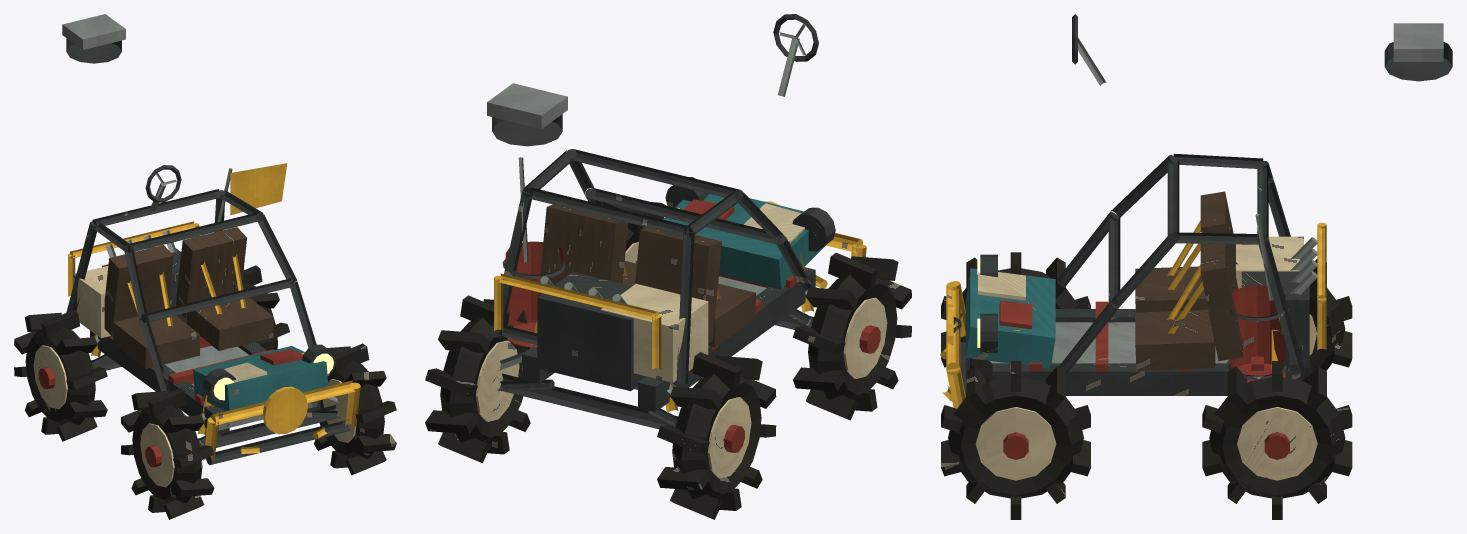
Rendered from vehicle_scout_buggy_a_quality_v2_lod1.glb.
3 views of the same model, side by side, from view 1: azimuth 30°, elevation 25°; view 2: azimuth 150°, elevation 25°; view 3: azimuth 270°, elevation 25° (orthographic). The views are drawn at different scales.
Parts seen in each view (by area): view 1: wheel_rear_left, wheel_front_left, passenger_seat_back, sloped_nose, driver_seat_back, wheel_front_right, passenger_seat_cushion, driver_seat_cushion, wheel_rear_left_tire, wheel_front_left_tire, left_chassis_rail, wheel_front_right_tire (+29 smaller); view 2: rear_engine_block, wheel_front_left, wheel_rear_left, passenger_seat_back, wheel_rear_right, rear_luggage_crate, driver_seat_back, sloped_nose, wheel_front_left_tire, wheel_rear_left_tire, left_chassis_rail, wheel_rear_right_tire (+23 smaller); view 3: wheel_rear_right_tire, wheel_front_right_tire, right_chassis_rail, sloped_nose, wheel_front_right, wheel_rear_right, passenger_seat_cushion, wheel_front_right_rim, wheel_rear_right_rim, passenger_seat_back, rear_fuel_drum, belly_skid (+30 smaller).
Part boxes in pixels (bbox=[...]): wheel_rear_left: bbox=[14, 310, 107, 441]; wheel_front_left: bbox=[121, 388, 214, 519]; passenger_seat_back: bbox=[176, 227, 246, 318]; sloped_nose: bbox=[193, 346, 328, 410]; driver_seat_back: bbox=[104, 245, 173, 336]; wheel_front_right: bbox=[314, 343, 396, 475]; passenger_seat_cushion: bbox=[186, 297, 273, 350]; driver_seat_cushion: bbox=[113, 315, 200, 368]; wheel_rear_left_tire: bbox=[25, 327, 95, 425]; wheel_front_left_tire: bbox=[132, 405, 202, 503]; left_chassis_rail: bbox=[90, 330, 229, 434]; wheel_front_right_tire: bbox=[319, 360, 384, 459]; rear_engine_block: bbox=[537, 272, 645, 391]; wheel_front_left: bbox=[793, 252, 911, 420]; wheel_rear_left: bbox=[657, 352, 776, 519]; passenger_seat_back: bbox=[538, 204, 628, 296]; wheel_rear_right: bbox=[425, 295, 530, 463]; rear_luggage_crate: bbox=[600, 283, 708, 382]; driver_seat_back: bbox=[635, 227, 721, 342]; sloped_nose: bbox=[663, 194, 825, 289]; wheel_front_left_tire: bbox=[808, 274, 897, 399]; wheel_rear_left_tire: bbox=[672, 374, 761, 499]; left_chassis_rail: bbox=[638, 267, 815, 411]; wheel_rear_right_tire: bbox=[440, 317, 528, 442]; wheel_rear_right_tire: bbox=[1209, 377, 1345, 498]; wheel_front_right_tire: bbox=[948, 377, 1083, 498]; right_chassis_rail: bbox=[992, 363, 1300, 395]; sloped_nose: bbox=[965, 268, 1055, 368]; wheel_front_right: bbox=[941, 361, 1090, 519]; wheel_rear_right: bbox=[1202, 361, 1352, 519]; passenger_seat_cushion: bbox=[1135, 310, 1215, 370]; wheel_front_right_rim: bbox=[975, 407, 1056, 480]; wheel_rear_right_rim: bbox=[1237, 407, 1317, 480]; passenger_seat_back: bbox=[1200, 243, 1242, 361]; rear_fuel_drum: bbox=[1229, 285, 1285, 382]; belly_skid: bbox=[992, 322, 1228, 363].
Size of the model in its own units: 1.85 by 2.59 by 2.86.
Materials: 9 (9 with a texture image).
